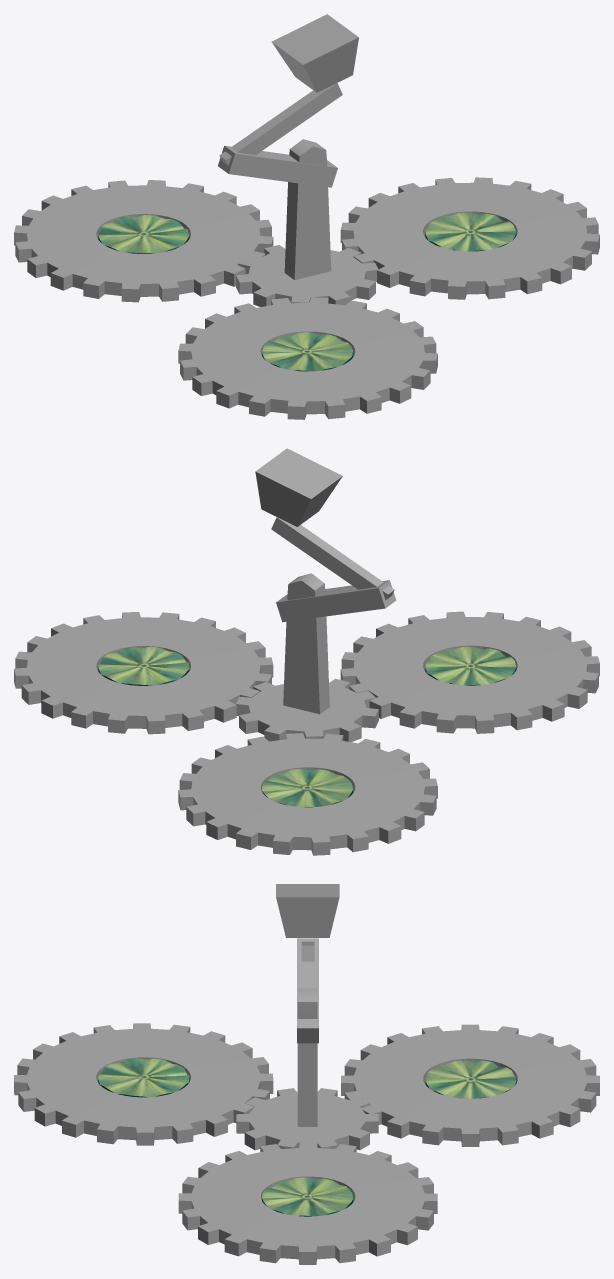
The model's file is pond_final.fbx.
3 views of the same model, one above another, from view 1: azimuth 30°, elevation 25°; view 2: azimuth 150°, elevation 25°; view 3: azimuth 270°, elevation 25° (orthographic).
Visible parts, largest first — view 1: gear_high, gear_low, gear_mid, frog_plat1 (×3), gear_center, net, pCube31, pCube32, pCube29; view 2: gear_mid, gear_high, gear_low, frog_plat1 (×3), gear_center, net, pCube31, pCube32, pCube29; view 3: gear_low, gear_high, gear_mid, frog_plat1 (×3), gear_center, pCube31, net, pCube32.
Part boxes in pixels (x1,y1,x2,y2): gear_high: [178, 297, 437, 419]; gear_low: [340, 177, 599, 299]; gear_mid: [14, 180, 273, 302]; frog_plat1 (×3): [98, 212, 516, 371]; gear_center: [236, 245, 378, 306]; net: [284, 139, 331, 280]; pCube31: [271, 14, 358, 92]; pCube32: [218, 145, 337, 187]; pCube29: [219, 83, 342, 165]; gear_mid: [178, 733, 437, 855]; gear_high: [340, 611, 599, 733]; gear_low: [14, 612, 273, 734]; frog_plat1 (×3): [98, 646, 516, 807]; gear_center: [236, 678, 378, 742]; net: [283, 573, 329, 714]; pCube31: [255, 448, 342, 526]; pCube32: [276, 580, 396, 622]; pCube29: [271, 517, 394, 600]; gear_low: [178, 1142, 437, 1264]; gear_high: [14, 1023, 273, 1145]; gear_mid: [341, 1024, 599, 1146]; frog_plat1 (×3): [98, 1058, 516, 1216]; gear_center: [236, 1088, 378, 1150]; pCube31: [276, 884, 339, 937]; net: [297, 988, 317, 1126]; pCube32: [297, 938, 318, 1043].
Bounding box in the file's own units: 33.45 × 17.22 × 36.11.
Materials: 2 (1 with a texture image).
